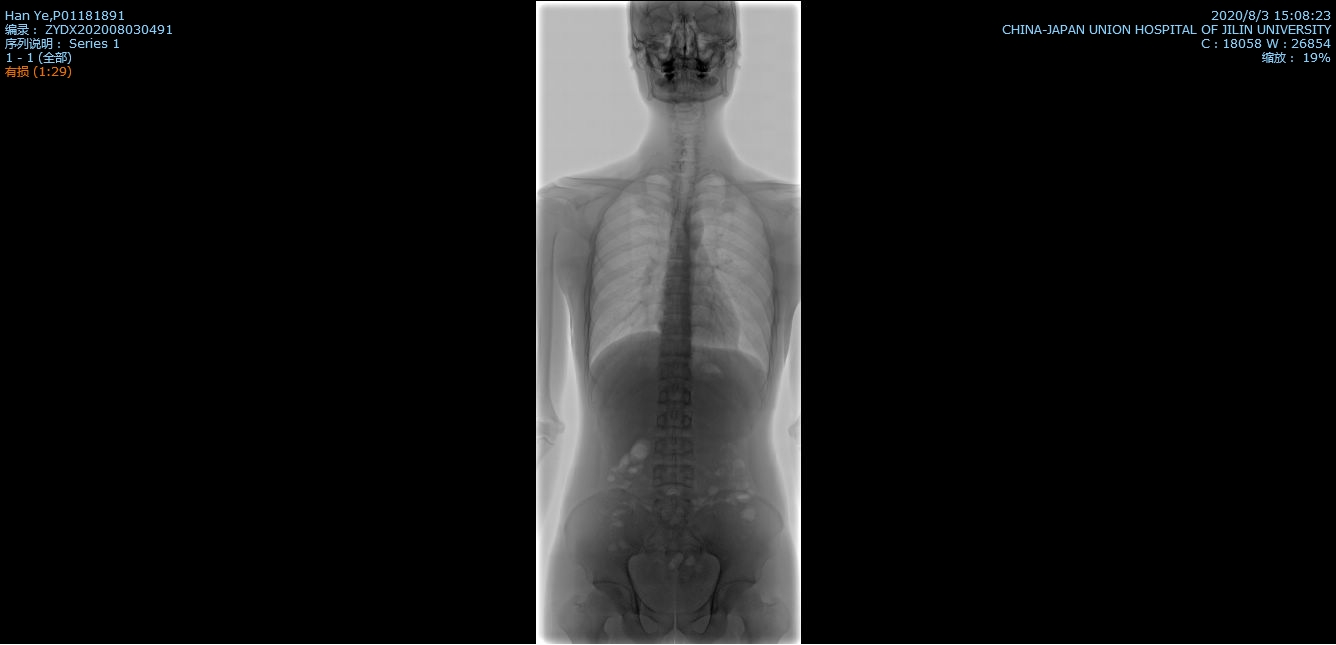Bone: (651, 436, 693, 459), (653, 466, 693, 484), (654, 493, 693, 511), (657, 410, 693, 427), (659, 385, 691, 403), (660, 337, 689, 356), (659, 363, 690, 378), (663, 319, 690, 334), (667, 299, 689, 315), (667, 246, 690, 260), (667, 280, 689, 293), (667, 263, 689, 276)
